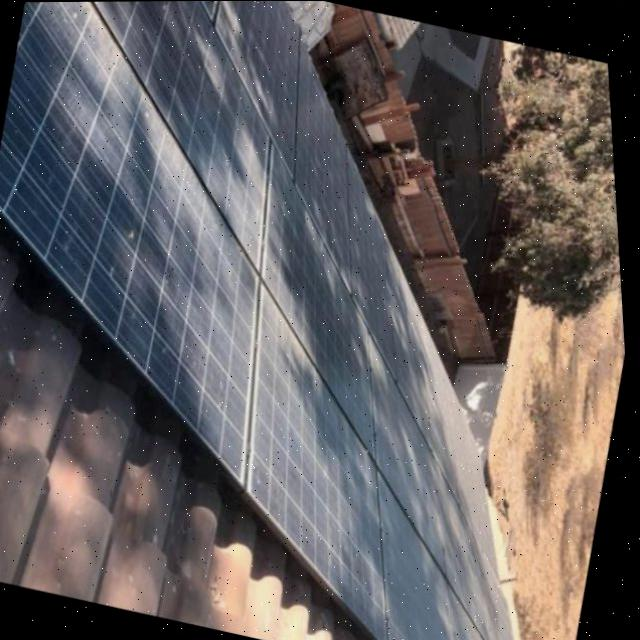Anomaly Solar Panel: (0, 0, 266, 487), (250, 280, 388, 640), (102, 0, 276, 272), (266, 138, 381, 458), (374, 333, 449, 578), (437, 456, 516, 640), (379, 466, 455, 640), (449, 581, 485, 640)
Surface Contaminant: (71, 0, 239, 244), (394, 245, 501, 582), (436, 453, 516, 640), (266, 279, 338, 388)
